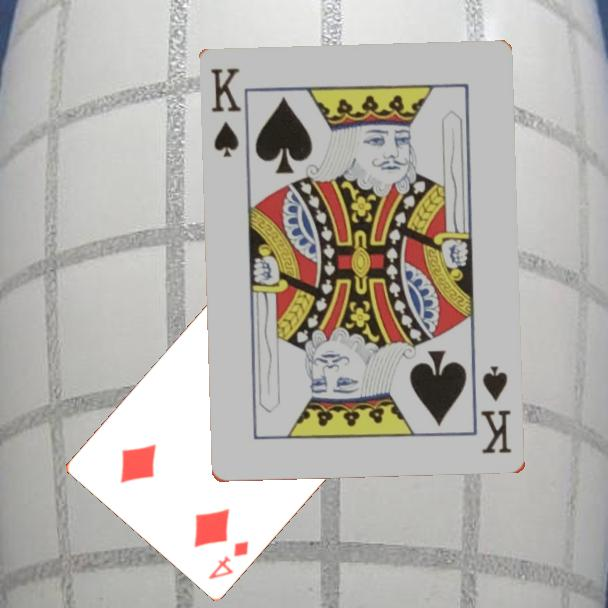d04: (205, 537, 252, 582)
s13: (208, 64, 245, 161), (478, 363, 515, 457)
